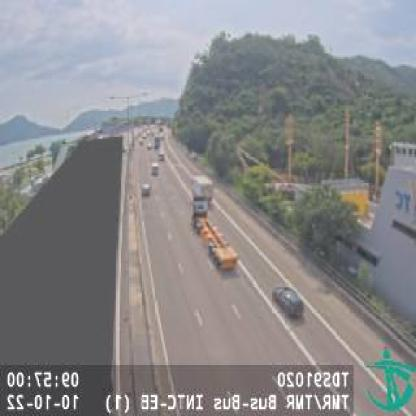Car: (272, 282, 307, 319), (142, 182, 152, 194), (150, 164, 159, 176)
Truck: (191, 175, 238, 272)
